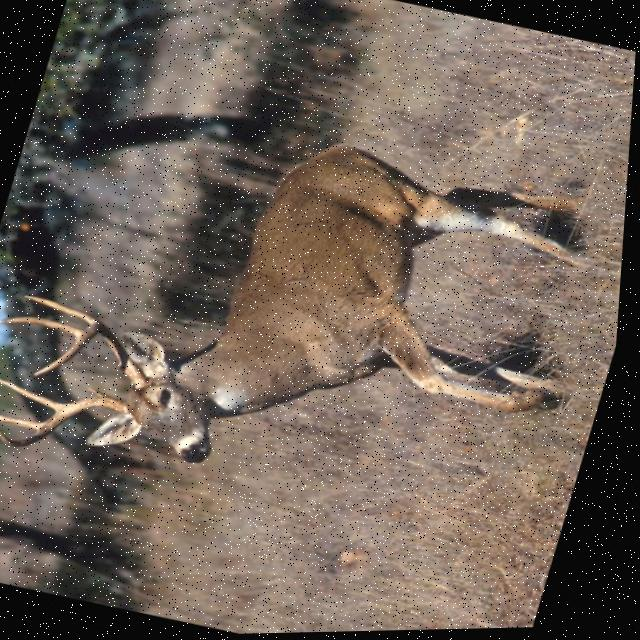L-F: (37, 323, 157, 389)
L-G1: (27, 295, 104, 325)
L-G2: (1, 316, 87, 338)
R-F: (2, 397, 135, 447)
R-G1: (91, 388, 116, 400)
R-G2: (0, 376, 71, 412)
R-G3: (0, 414, 47, 429)
